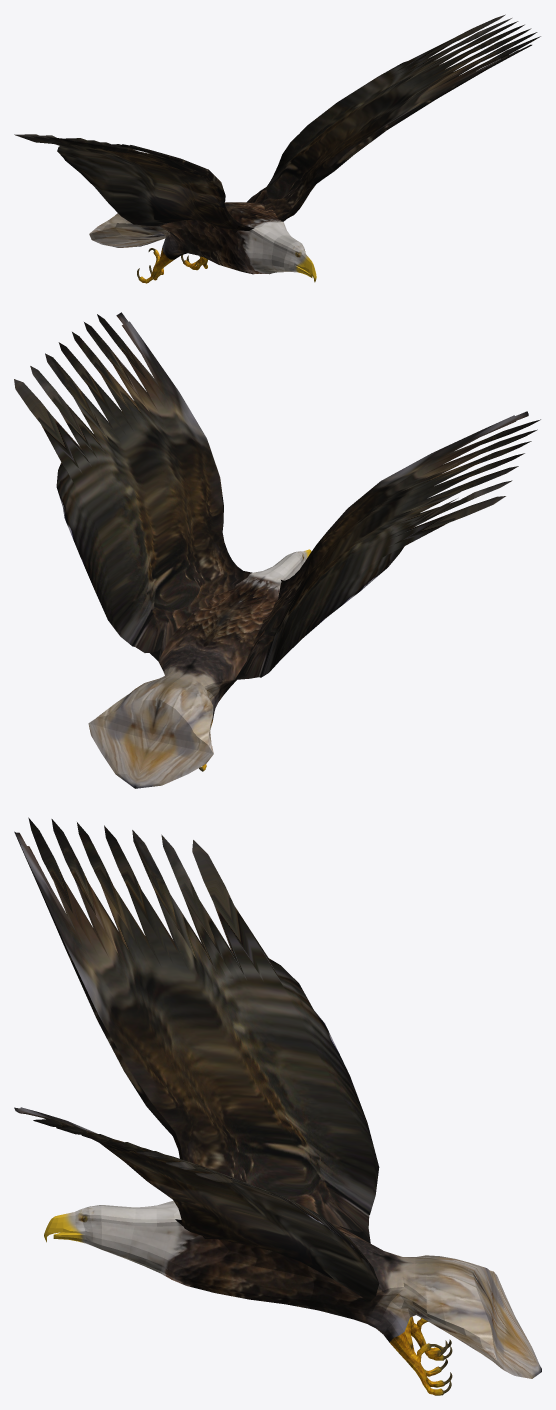
Rendered from Aguila.fbx.
3 views of the same model, one above another, from view 1: azimuth 30°, elevation 25°; view 2: azimuth 150°, elevation 25°; view 3: azimuth 270°, elevation 25° (orthographic). The views are drawn at different scales.
Visible parts, largest first — view 1: Flugel; view 2: Flugel; view 3: Flugel.
Part boxes in pixels (x1,y1,x2,y2): Flugel: (14, 14, 540, 283); Flugel: (14, 312, 540, 788); Flugel: (14, 817, 541, 1395).
Bounding box in the file's own units: 922 × 522 × 616.
1 material, 1 textured.
